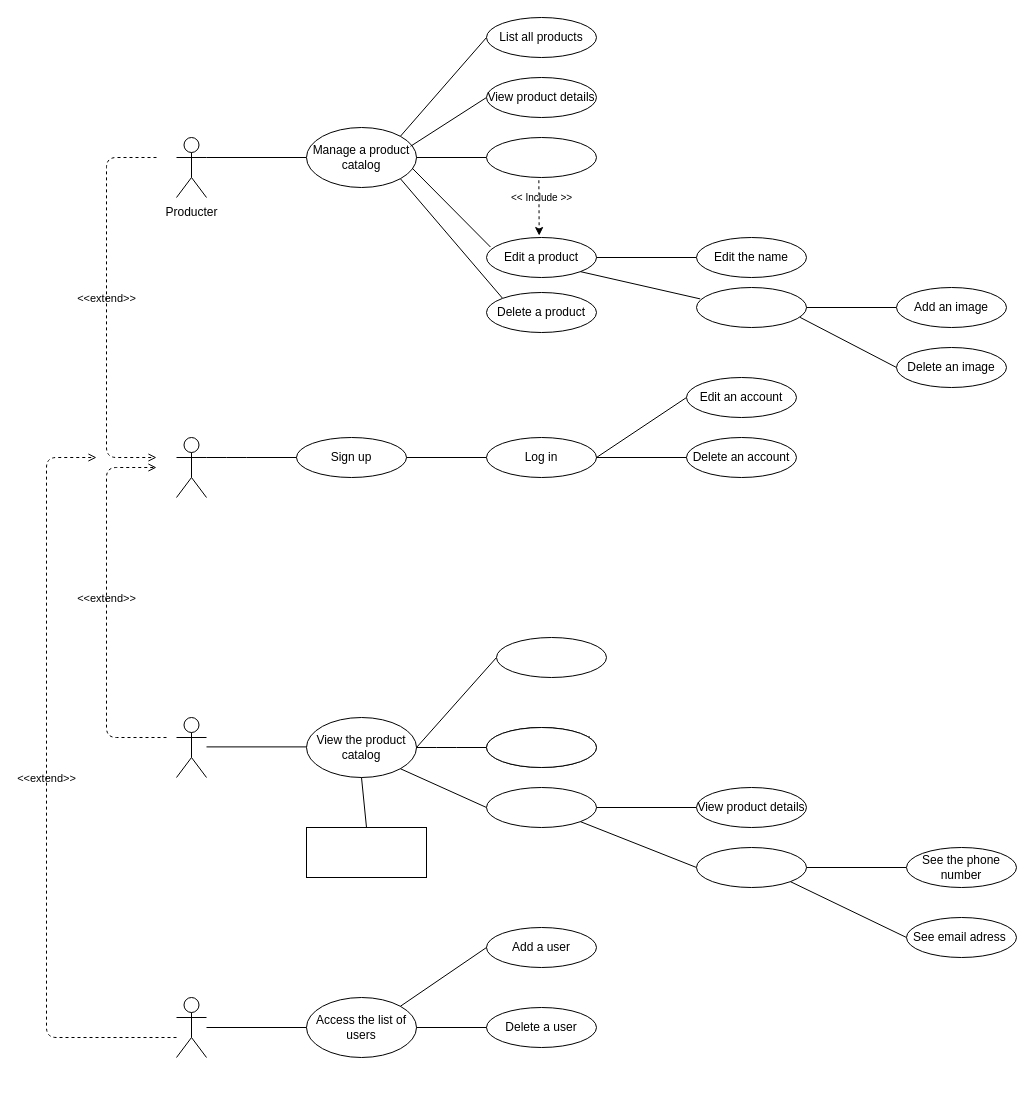
This 1034x1096 diagram has some shape labels left out. The box of each missing label's shape, as (x1, y1, x2, y2) in pixels:
admin: (176, 996, 206, 1058)
Collectivity: (176, 716, 206, 778)
Create a product: (486, 136, 596, 178)
Filter by type: (496, 636, 606, 678)
Manage images: (696, 286, 806, 328)
Search by name: (486, 726, 596, 768)
Select a product: (486, 786, 596, 828)
Standard user: (176, 436, 206, 498)
This includes products from all producers: (306, 826, 426, 878)
view contact: (696, 846, 806, 888)
